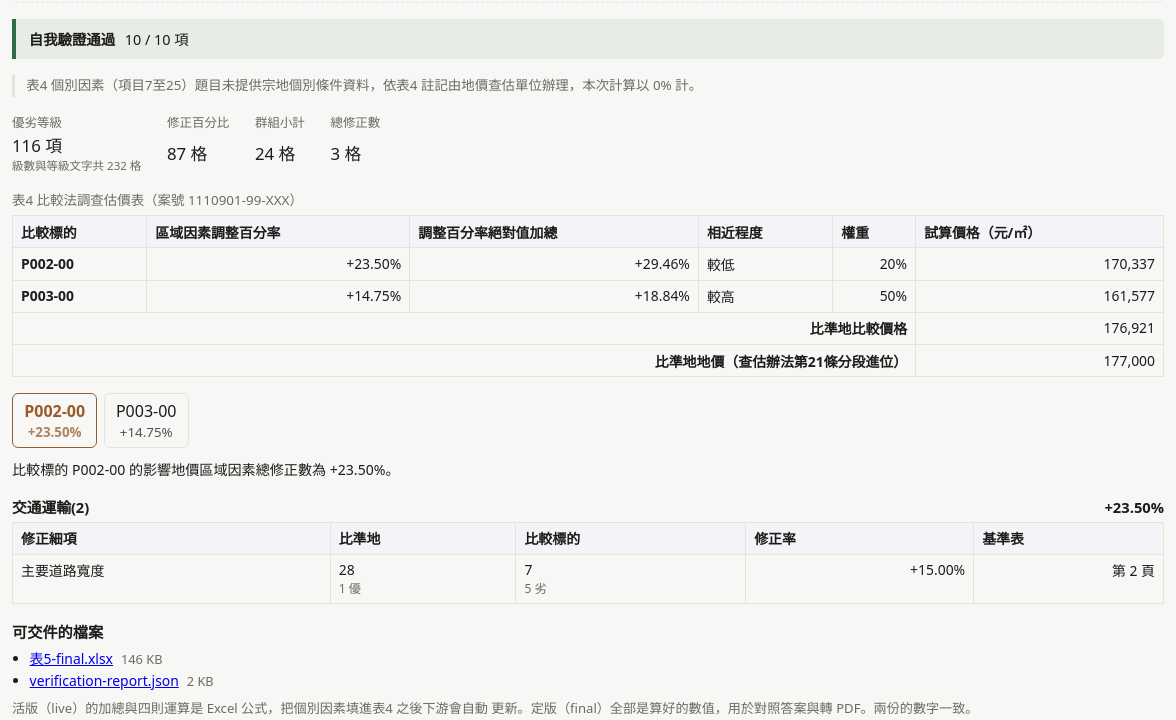
SurveyPanel › 點一列才展開那一格的依據
(page scrolled)
Check: the text "矩陣[比準地=1 優]" is not shown
Click the button "主要道路寬度 28 1 優 7 5 劣 +15.00% 第 2 頁". click: {"x": 588, "y": 579}
box: [12,554,1164,604]
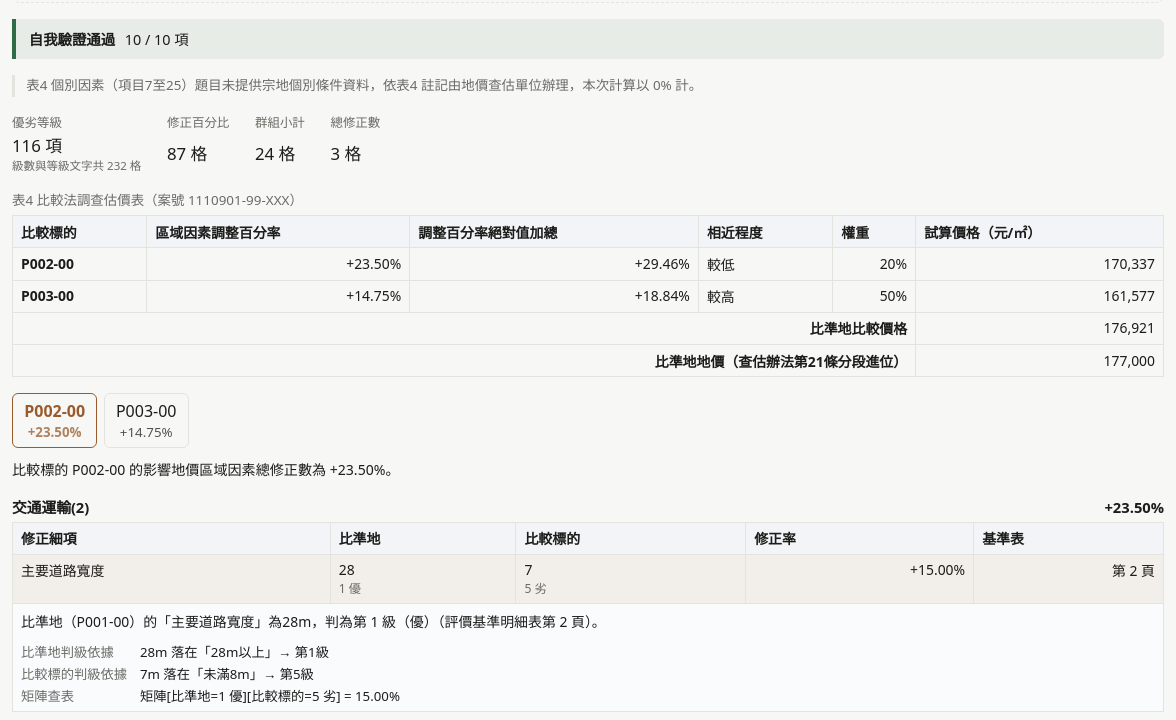
Check: the text "28m 落在「28m以上」→ 第1級" is shown, box [140,643,329,661]
Check: the text "7m 落在「未滿8m」→ 第5級" is shown, box [140,665,314,683]
Check: the text "矩陣[比準地=1 優][比較標的=5 劣] = 15.00%" is shown, box [140,687,400,705]
